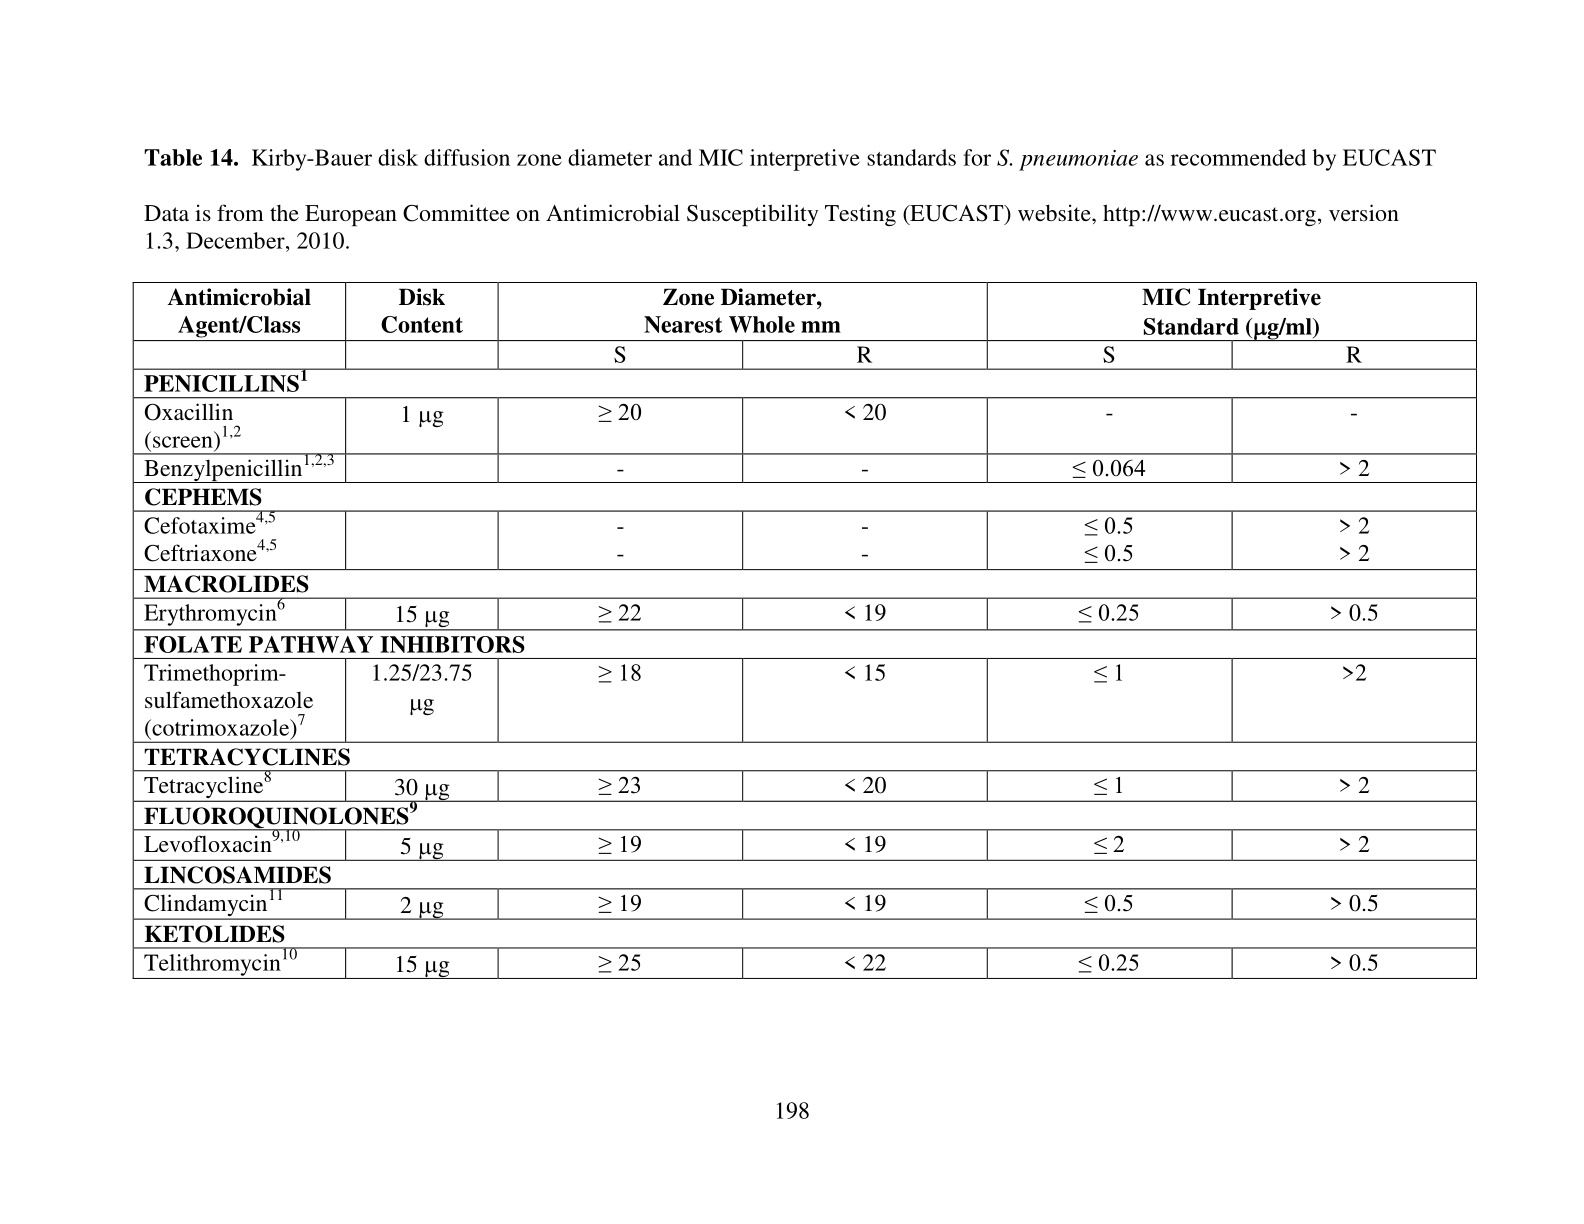merged_cells: (132, 282, 1479, 980)
